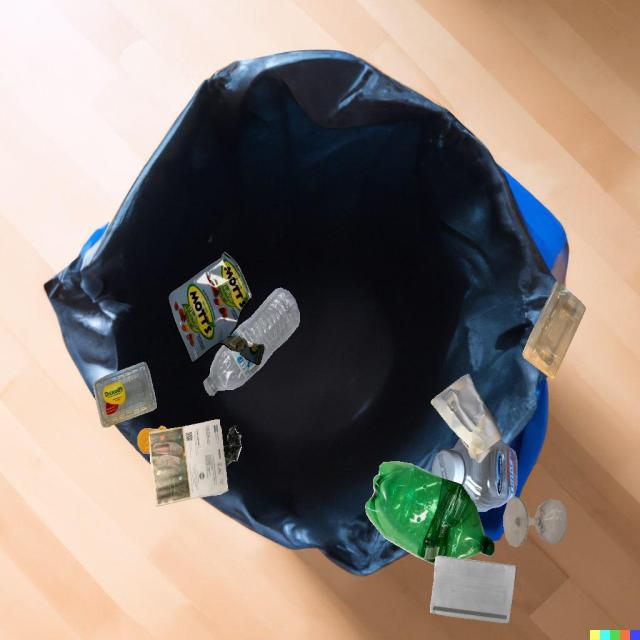glass: (503, 496, 567, 547)
paper: (149, 419, 228, 507), (431, 374, 503, 463), (430, 556, 517, 623)
plastic: (365, 461, 494, 564), (203, 288, 300, 396), (432, 438, 517, 511), (523, 281, 585, 379), (93, 362, 157, 427), (138, 425, 166, 454), (223, 425, 242, 466)
trash: (168, 252, 264, 365)
